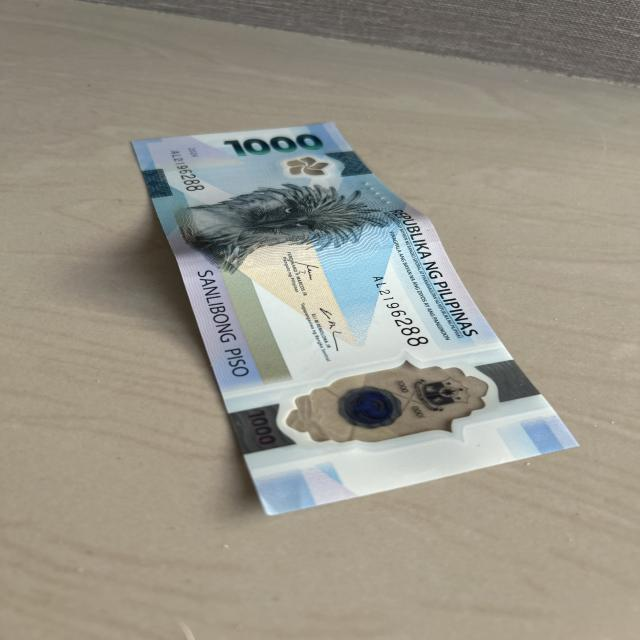clear_window: (278, 361, 513, 441)
eagle: (174, 184, 386, 261)
sampaguita: (281, 155, 330, 177)
